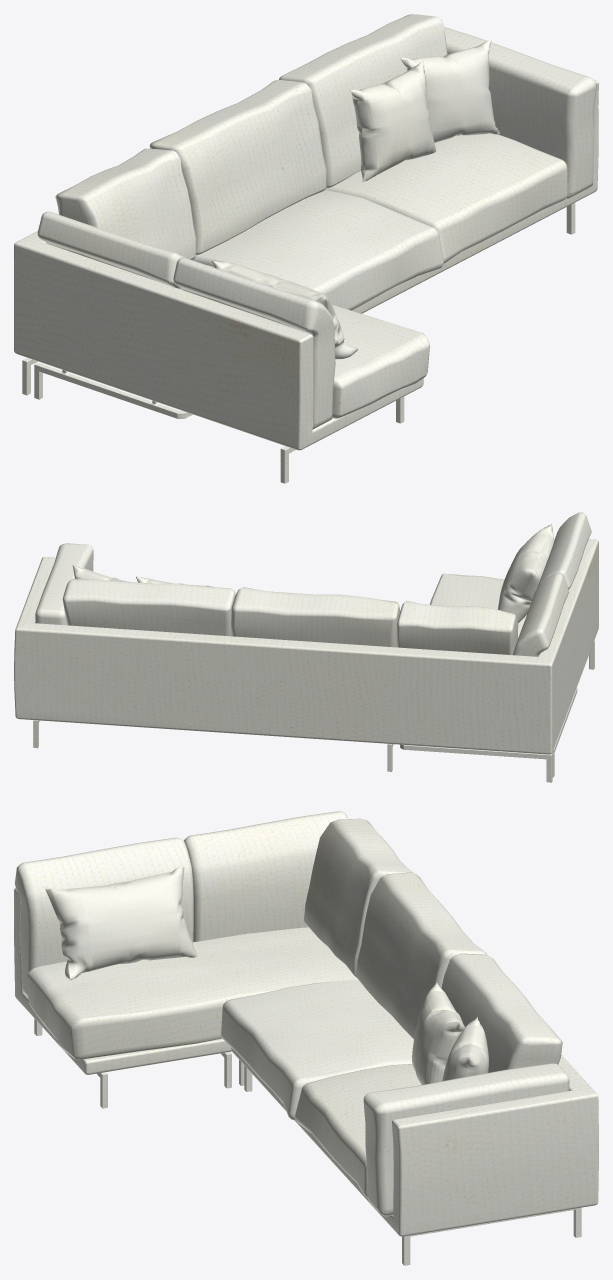
3 renders of one model, top to bottom at view 1: azimuth 30°, elevation 25°; view 2: azimuth 150°, elevation 25°; view 3: azimuth 270°, elevation 25°, orthographic. The views are drawn at different scales.
Visible parts, largest first — view 1: Sofa_low; view 2: Sofa_low; view 3: Sofa_low.
Part boxes in pixels (bbox=[...]): Sofa_low: bbox=[14, 14, 598, 483]; Sofa_low: bbox=[14, 512, 598, 782]; Sofa_low: bbox=[14, 811, 598, 1265].
Size of the model in its own units: 4.63 by 1.43 by 3.87.
Materials: 4 (4 with a texture image).
